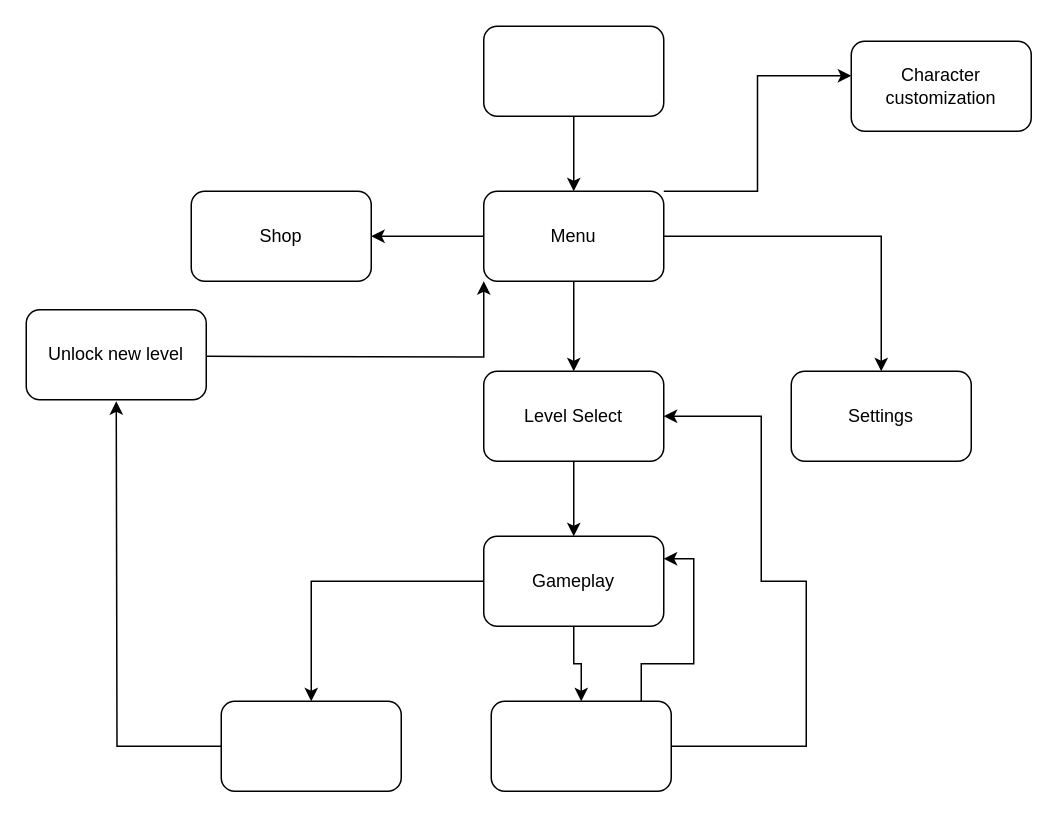
Image size: 1058x818. Some labels were removed from this diagram. The shapes that lost their labels are listed below. From the top down, each one's centre as x and y in pixels, then its label:
At pixel 573 70: "Start".
At pixel 310 745: "Win screen".
At pixel 580 745: "Game over".
